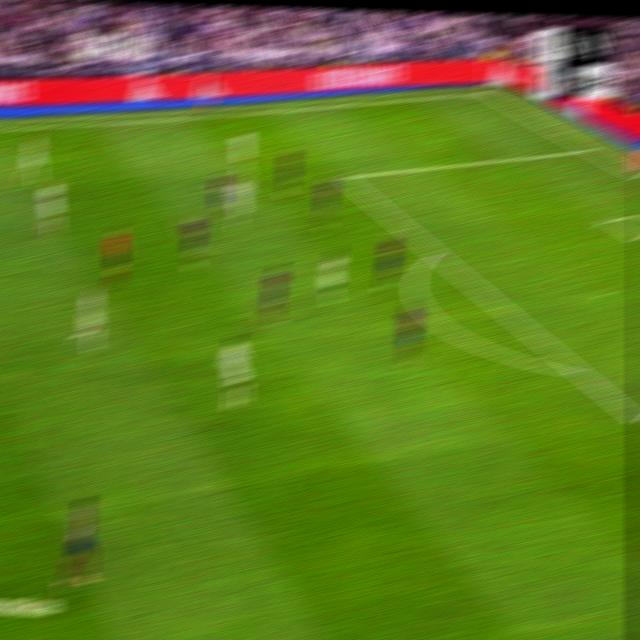bigarea_top_inner: (337, 167, 353, 186)
bigarea_top_outter: (579, 141, 597, 156)
bottom_arc_area_intersection: (567, 355, 588, 385)
corner: (477, 85, 496, 98)
smallarea_top_inner: (599, 209, 618, 229)
top_arc_area_intersection: (427, 241, 444, 264)
